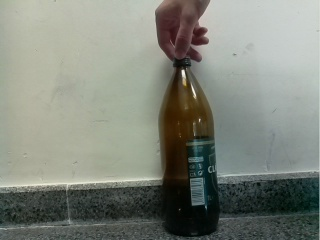pote cristal: (158, 57, 220, 234)
